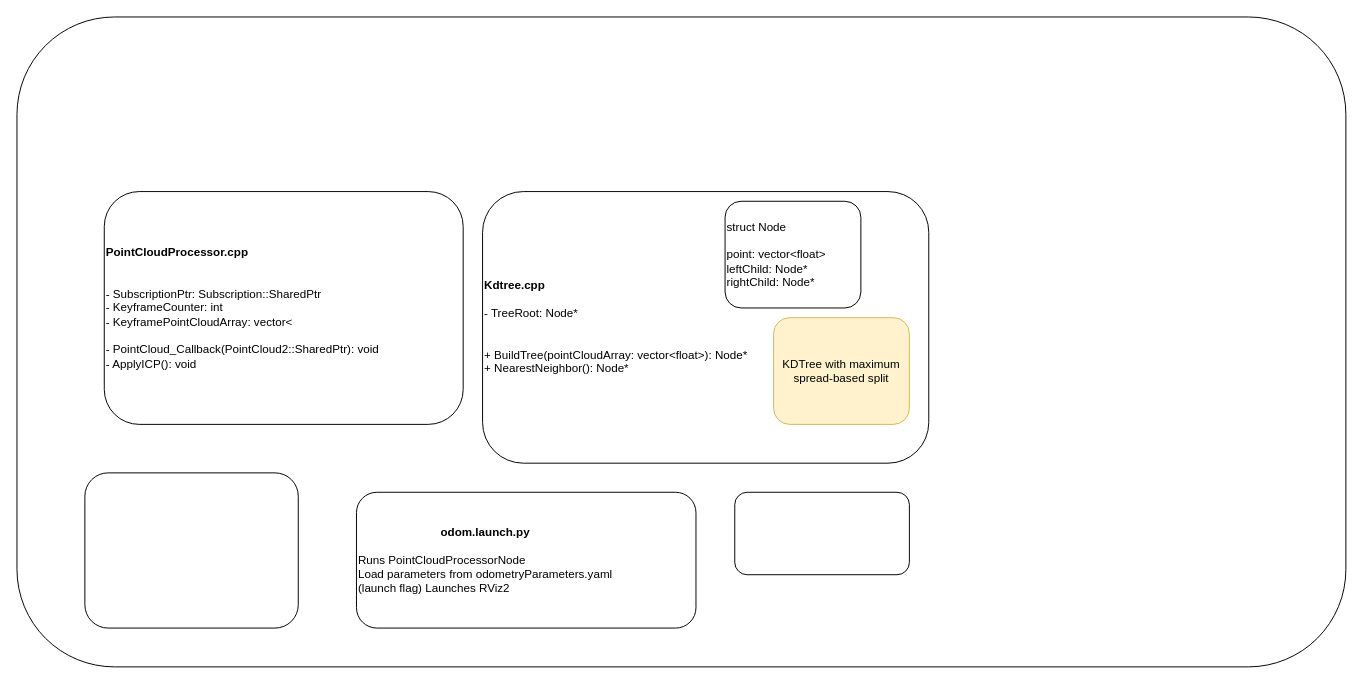
This 1363x684 diagram has some shape labels left out. The shapes that lost their labels are listed below. From the top down, each one's box as (x1, y1, x2, y2) in pixels, then its label:
(84, 472, 298, 628): estimate.txt odometry output in format: cloud_timestamp tx ty tz qx qy qz qw
(734, 491, 909, 575): odometryParameters.yaml MinRange MaxRange IntensityThreshold
